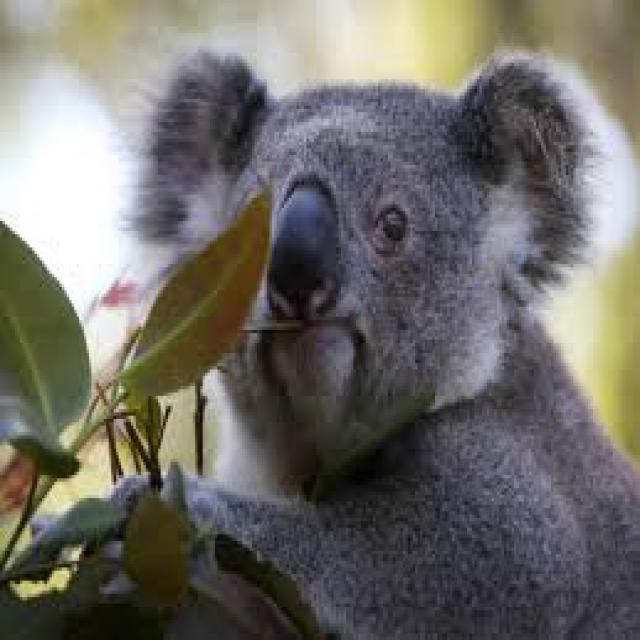Koala: (130, 41, 639, 640)
